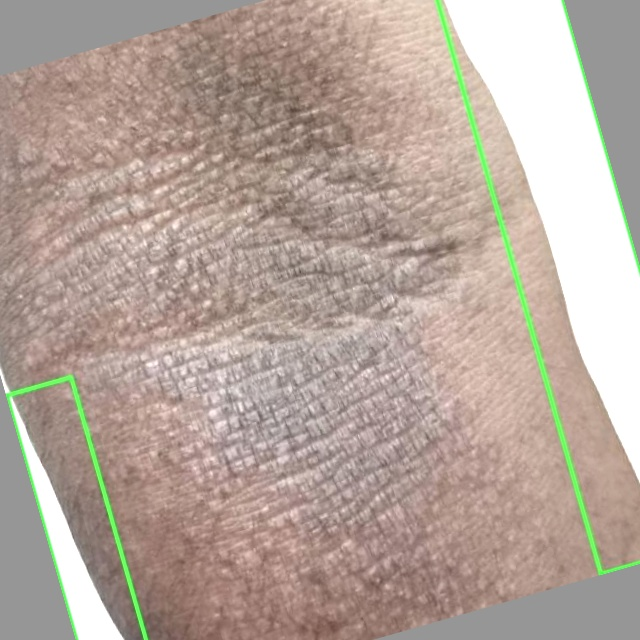Eczema: (437, 0, 639, 573), (7, 376, 146, 639)
